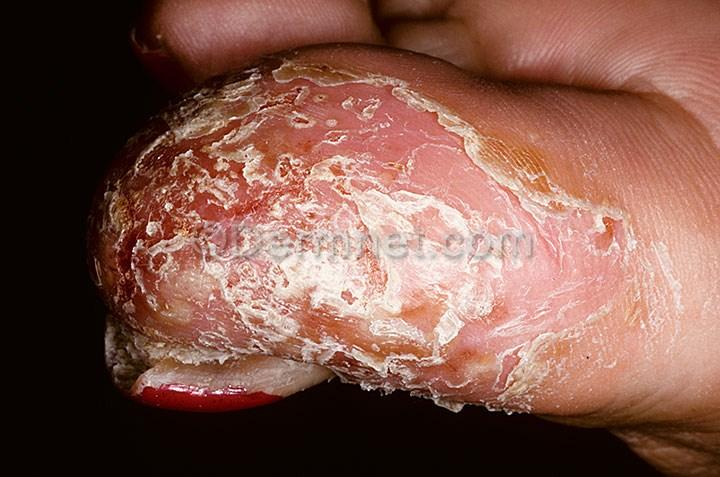Eczema: (117, 68, 430, 377)
